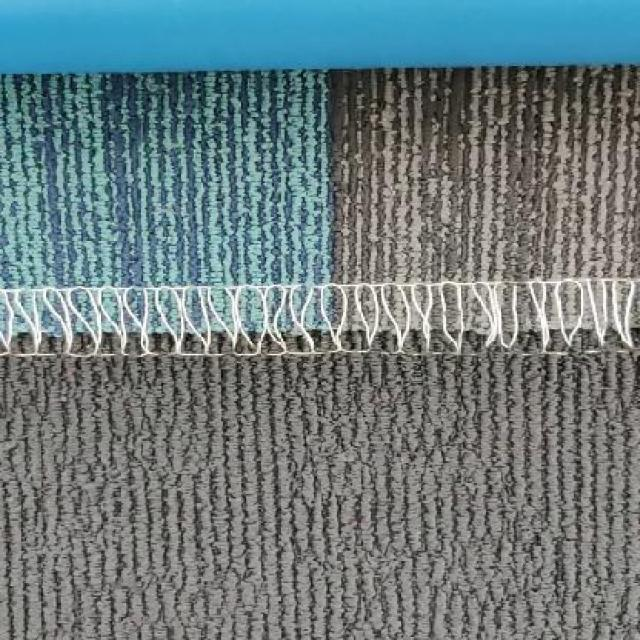gray stitch: (3, 278, 640, 359)
